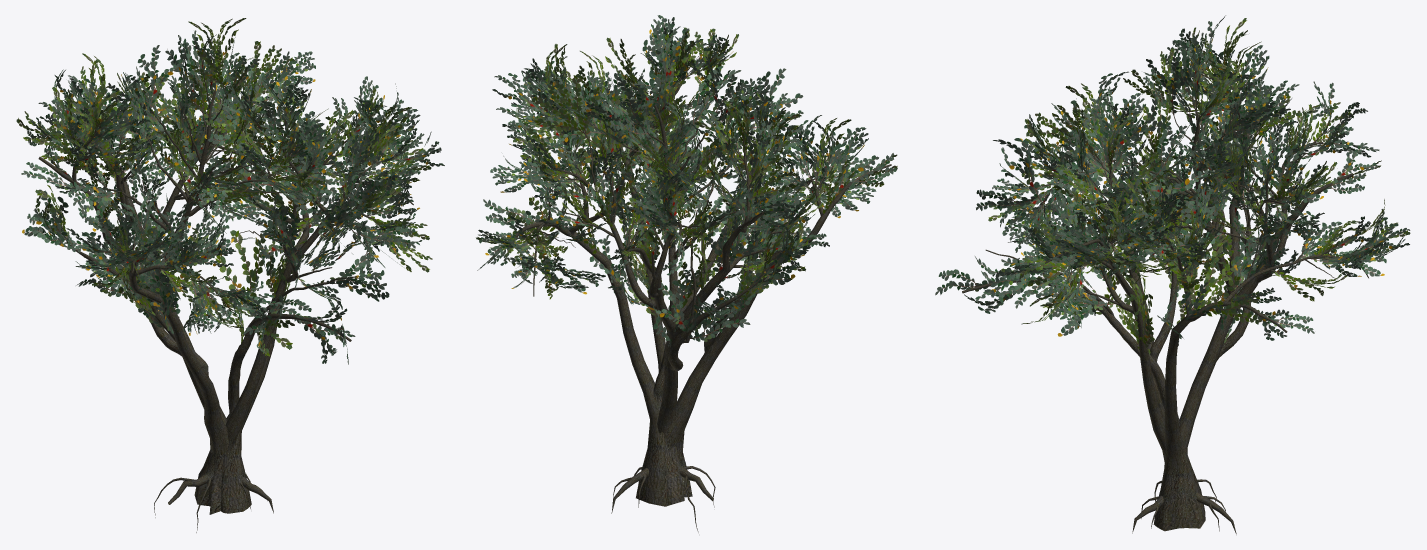
3 renders of one model, left to right at view 1: azimuth 30°, elevation 25°; view 2: azimuth 150°, elevation 25°; view 3: azimuth 270°, elevation 25°, orthographic.
Visible parts, largest first — view 1: Elm_LOD0; view 2: Elm_LOD0; view 3: Elm_LOD0.
Boxes of the visible parts, left/top/right/bottom form: Elm_LOD0: left=16, top=18, right=444, bottom=532; Elm_LOD0: left=476, top=15, right=897, bottom=532; Elm_LOD0: left=935, top=15, right=1410, bottom=534.
Size of the model in its own units: 16.36 by 21.29 by 19.01.
2 materials, 2 textured.
